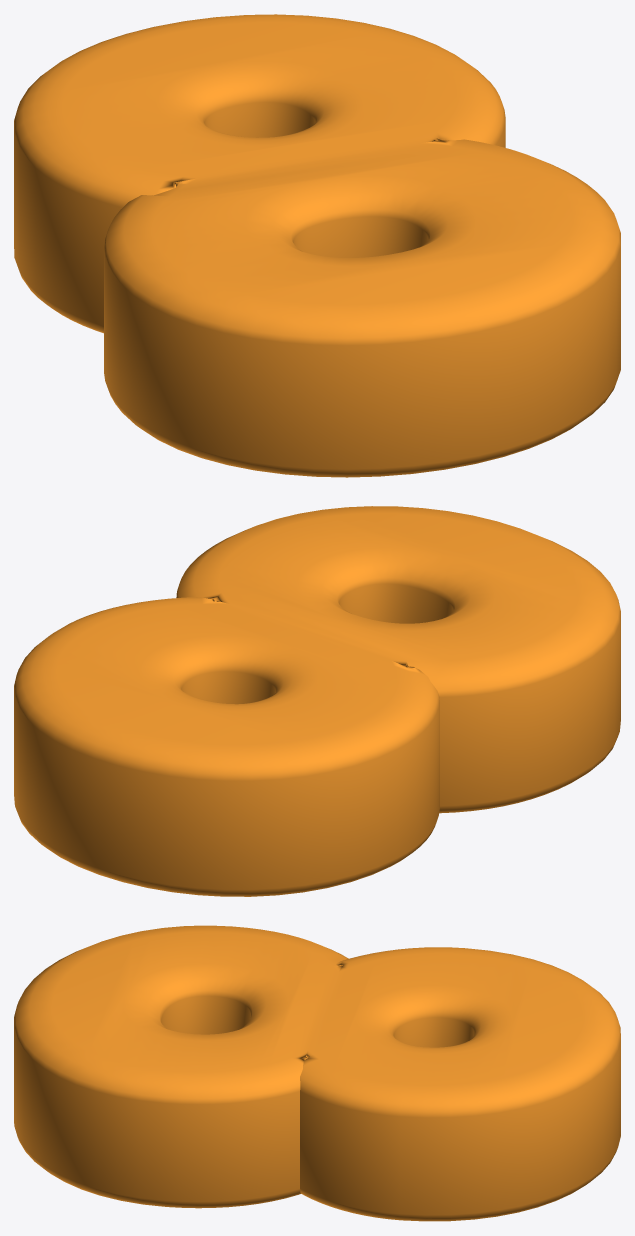
Rendered from ToyObject_205.fbx.
3 views of the same model, one above another, from view 1: azimuth 30°, elevation 25°; view 2: azimuth 150°, elevation 25°; view 3: azimuth 270°, elevation 25° (orthographic). The views are drawn at different scales.
Visible parts, largest first — view 1: Object.010; view 2: Object.010; view 3: Object.010.
Boxes of the visible parts, left/top/right/bottom form: Object.010: left=14, top=14, right=620, bottom=477; Object.010: left=14, top=506, right=620, bottom=896; Object.010: left=14, top=925, right=620, bottom=1221.
Bounding box in the file's own units: 0.1211 × 0.0394 × 0.1671.
